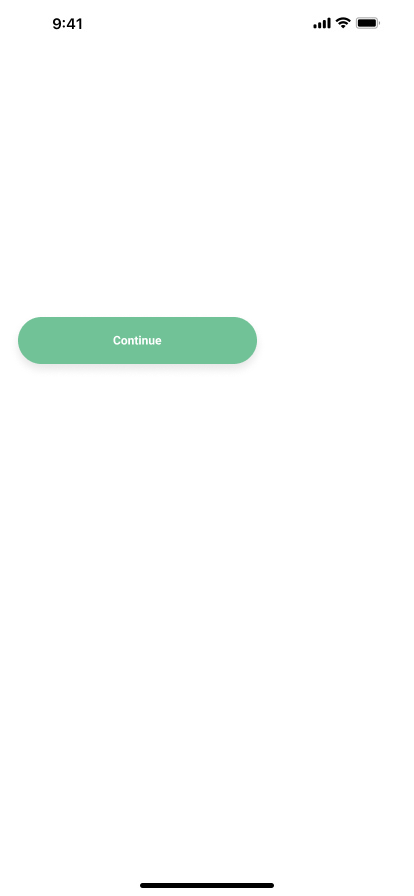Buttons: (8, 312, 267, 379)
Home Indicator: (0, 862, 414, 896)
Status Bar: (0, 0, 414, 44)
